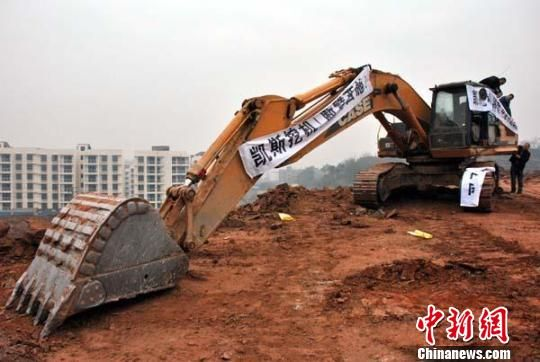excavator: (14, 58, 540, 347)
